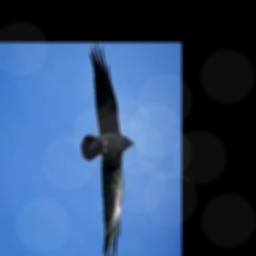Crow: (80, 42, 135, 256)
